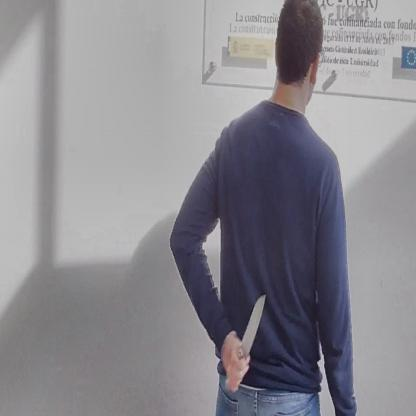knife: (226, 282, 271, 378)
